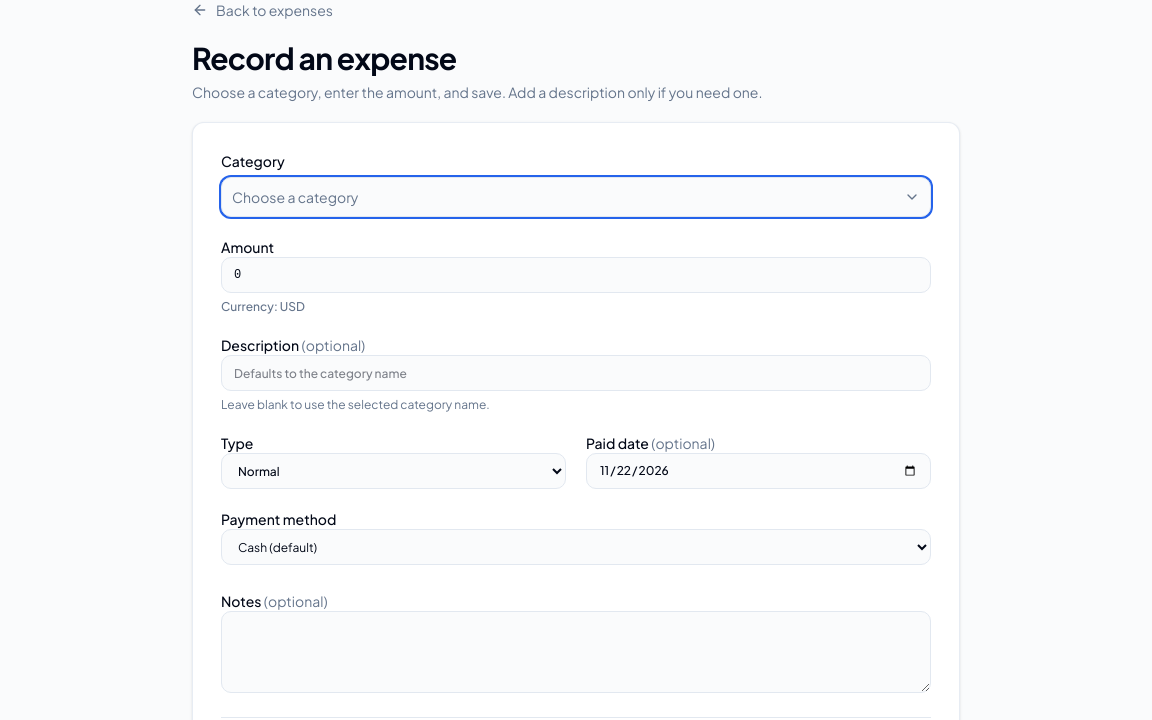
Scenario: expense UI › shows duplicate warning confirmation dialog, keeps form data intact, and allows cancel to edit
The width and height of the screenshot is (1152, 720).
Click the button "Choose a category". click: point(295, 197)
box: top-left (221, 177), bottom-right (931, 217)
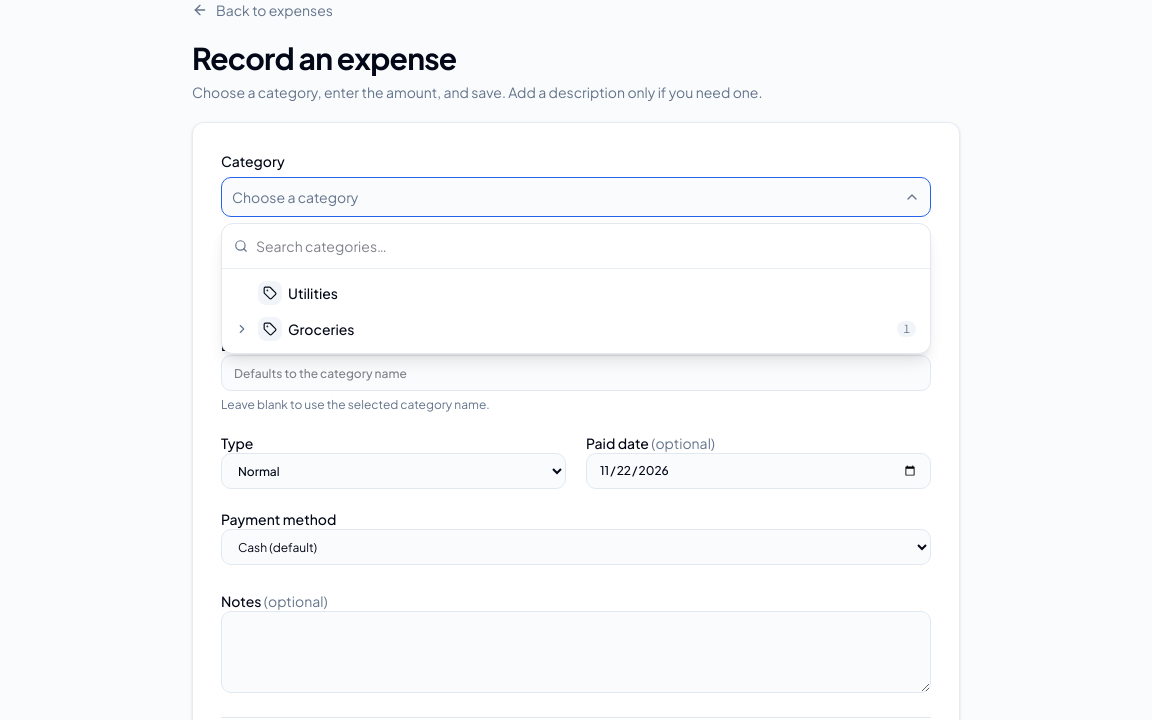
Click the list item "Groceries". click: point(321, 329)
box: top-left (228, 311), bottom-right (924, 347)
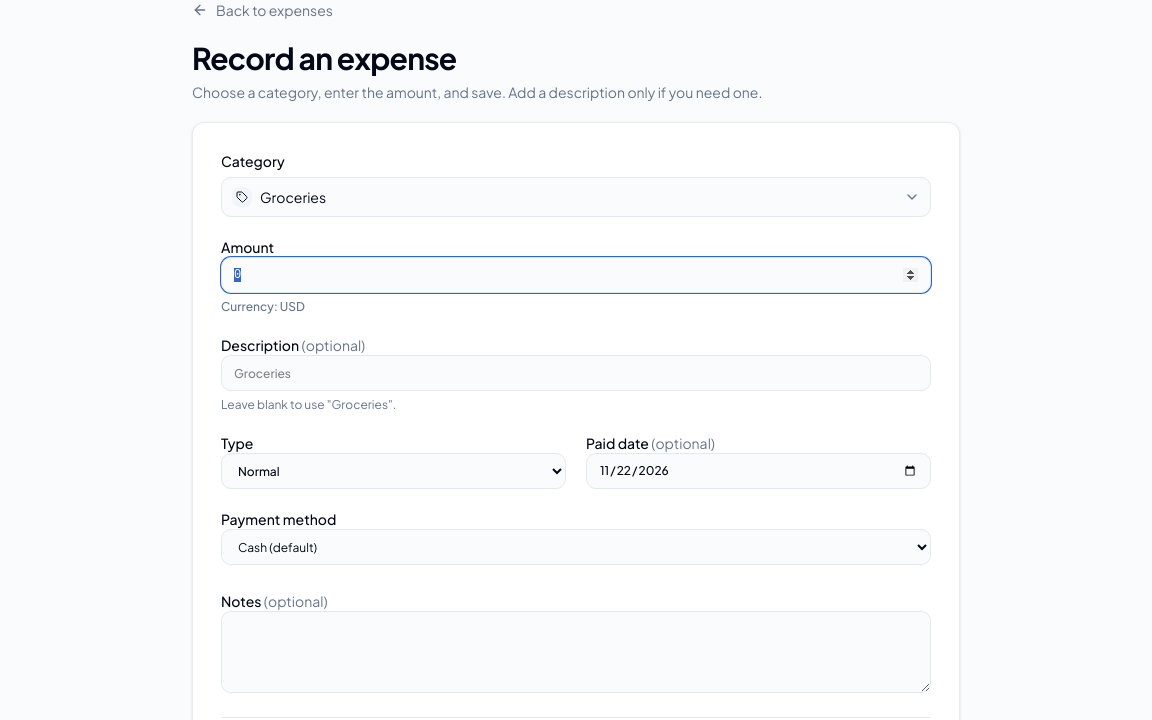
Type "25" into the number field labelled "Amount Currency: USD". click: point(576, 275)
box: top-left (221, 257), bottom-right (931, 293)
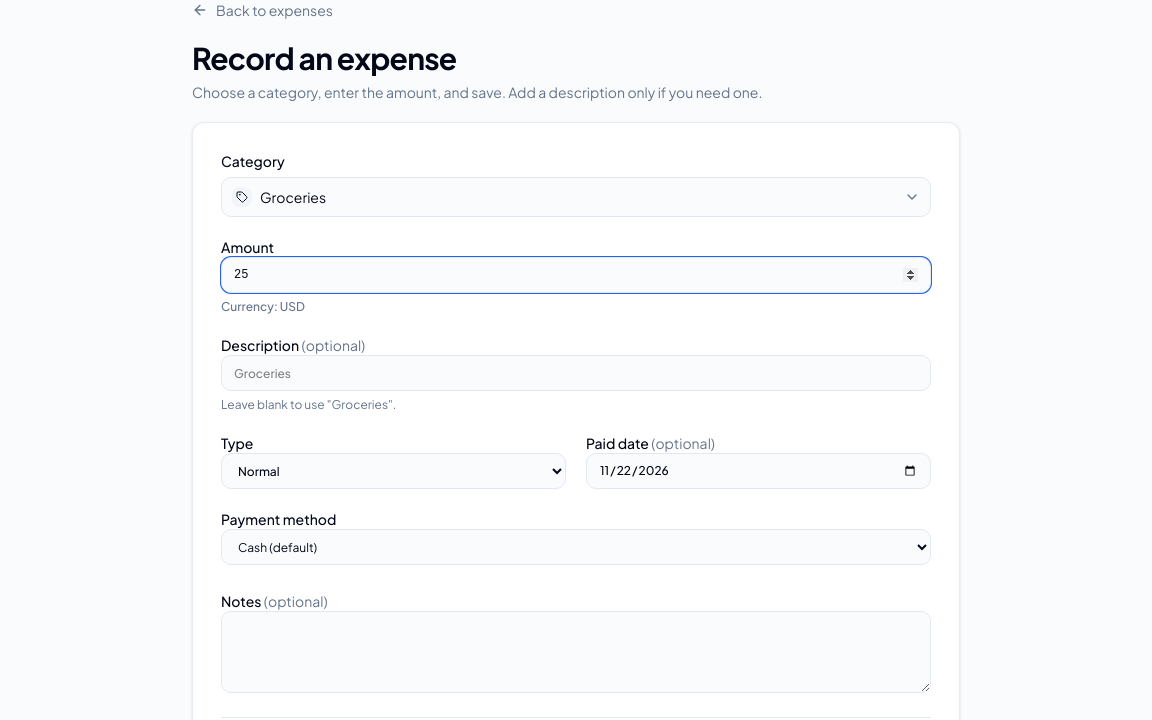
Type "Weekly groceries" into the field labelled "Description (optional) Leave blank to use \"Groceries\".". click: point(576, 373)
box: top-left (221, 355), bottom-right (931, 391)
(page scrolled)
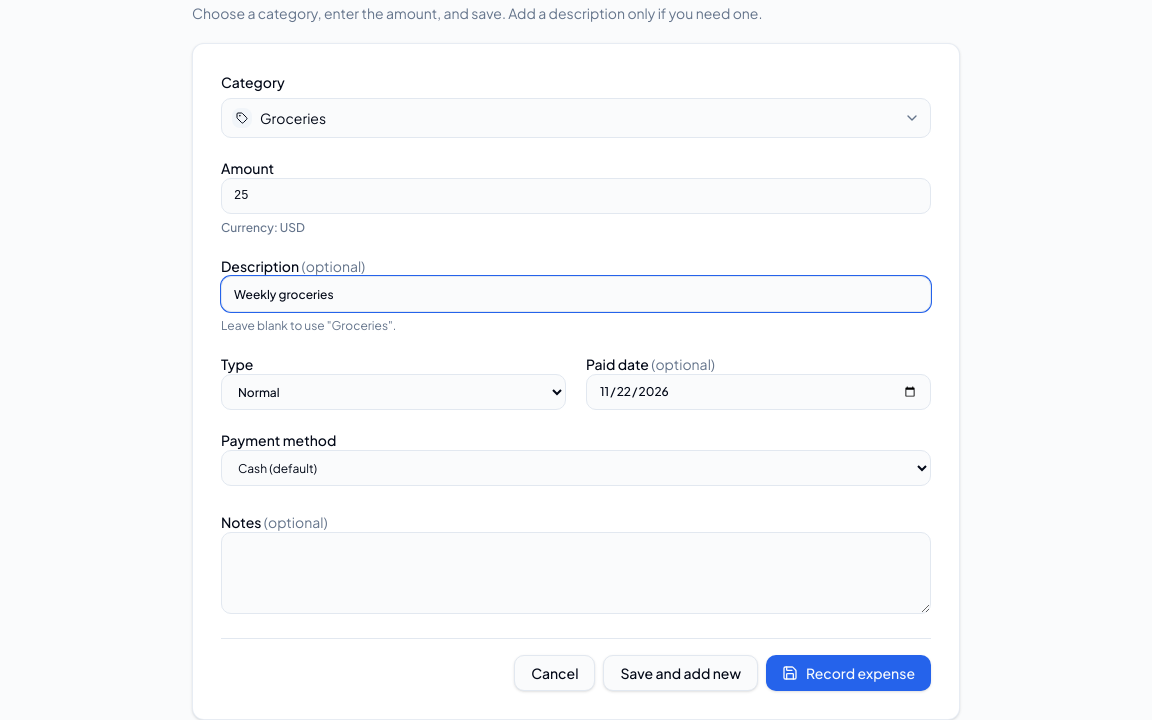
Click the button "Record expense". click: point(848, 673)
box: top-left (766, 655), bottom-right (931, 691)
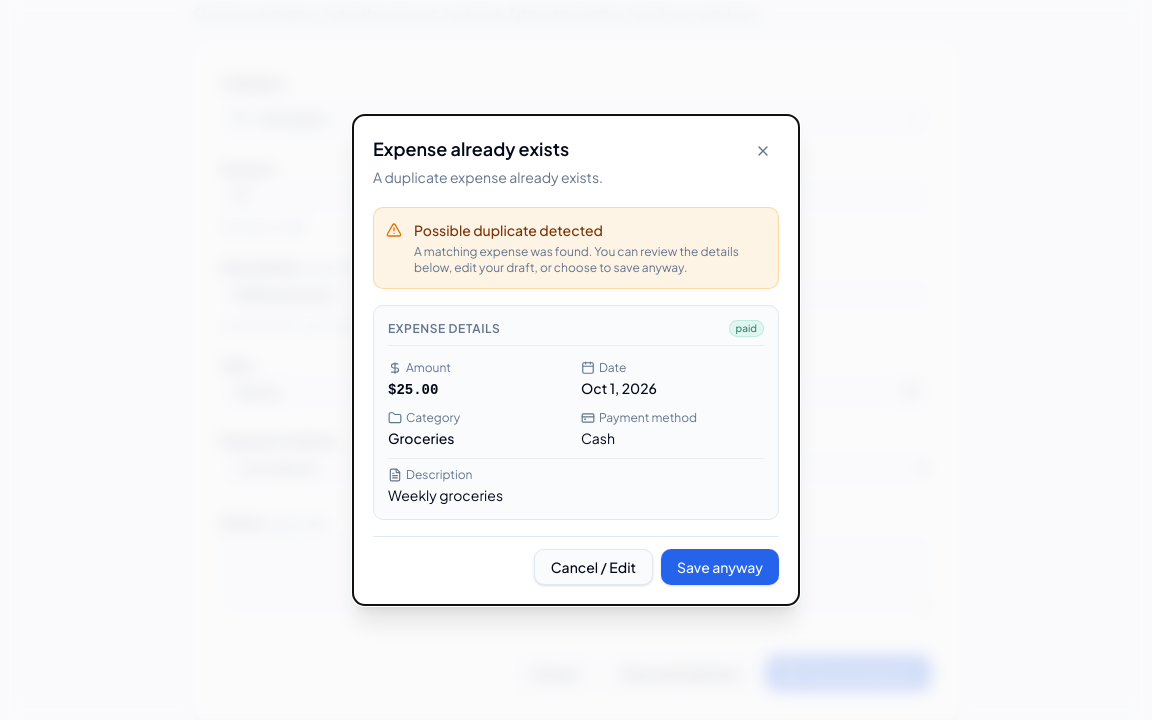
Expected: the heading "Expense already exists" is shown, top-left (373, 135), bottom-right (603, 163)
Expected: the text "$25.00" is shown, top-left (388, 382), bottom-right (438, 398)
Expected: the text "Groceries" is shown, top-left (388, 429), bottom-right (454, 447)
Click the button "Cancel / Edit". click: point(593, 567)
box: top-left (534, 549), bottom-right (653, 585)
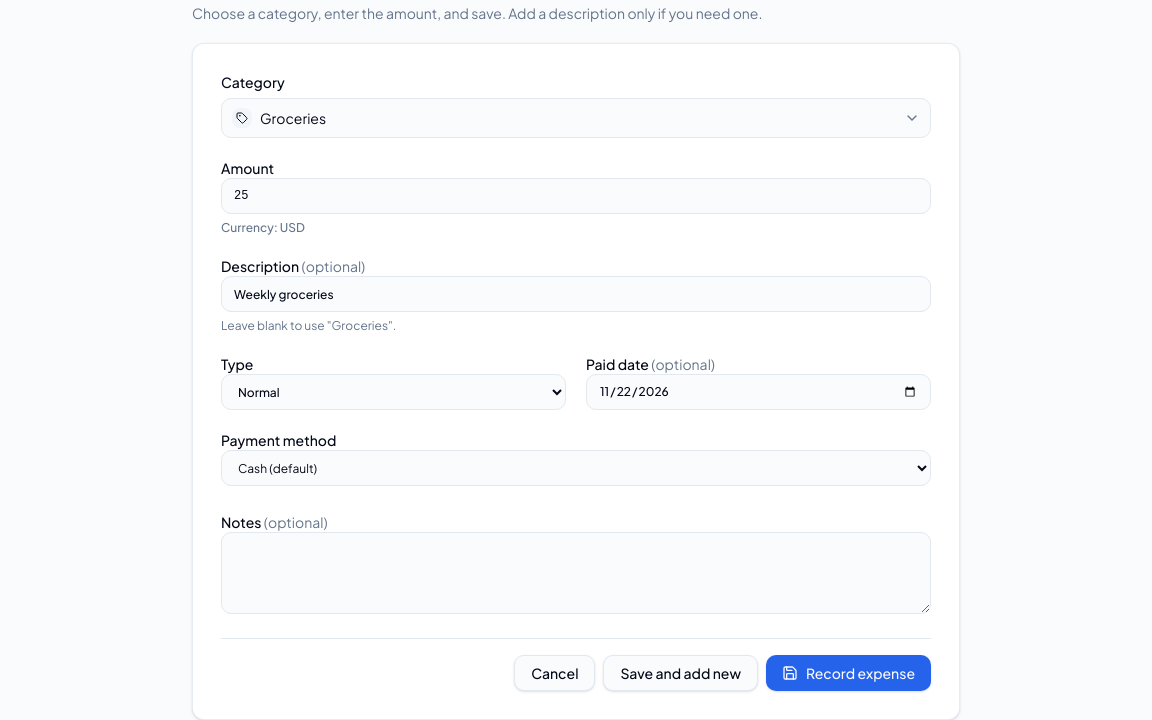
Expected: the button named "Category" reads "Groceries", top-left (221, 98), bottom-right (931, 138)
Expected: the dialog is gone
